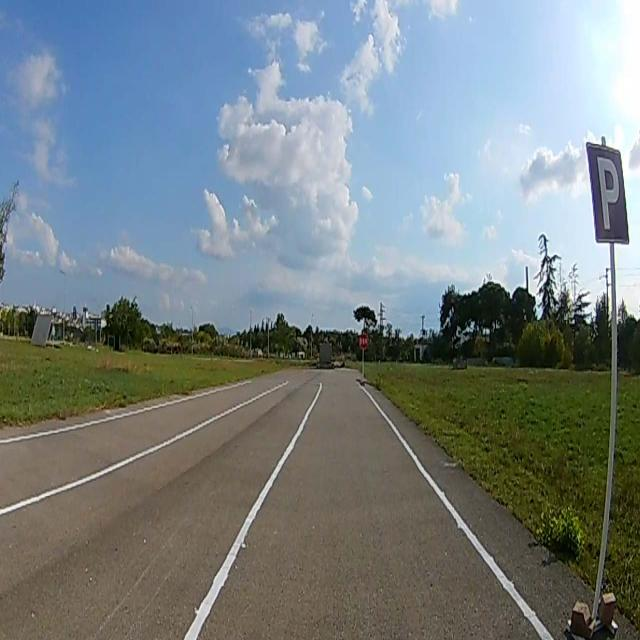park: (586, 141, 630, 244)
